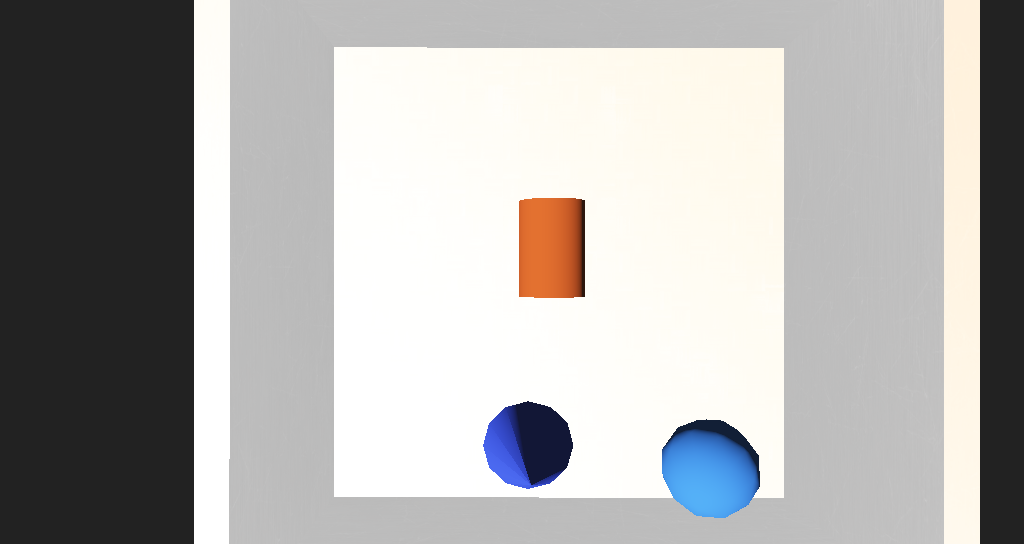cone: (478, 236, 519, 279)
cylinder: (455, 329, 515, 387)
sphere: (576, 334, 637, 382)
